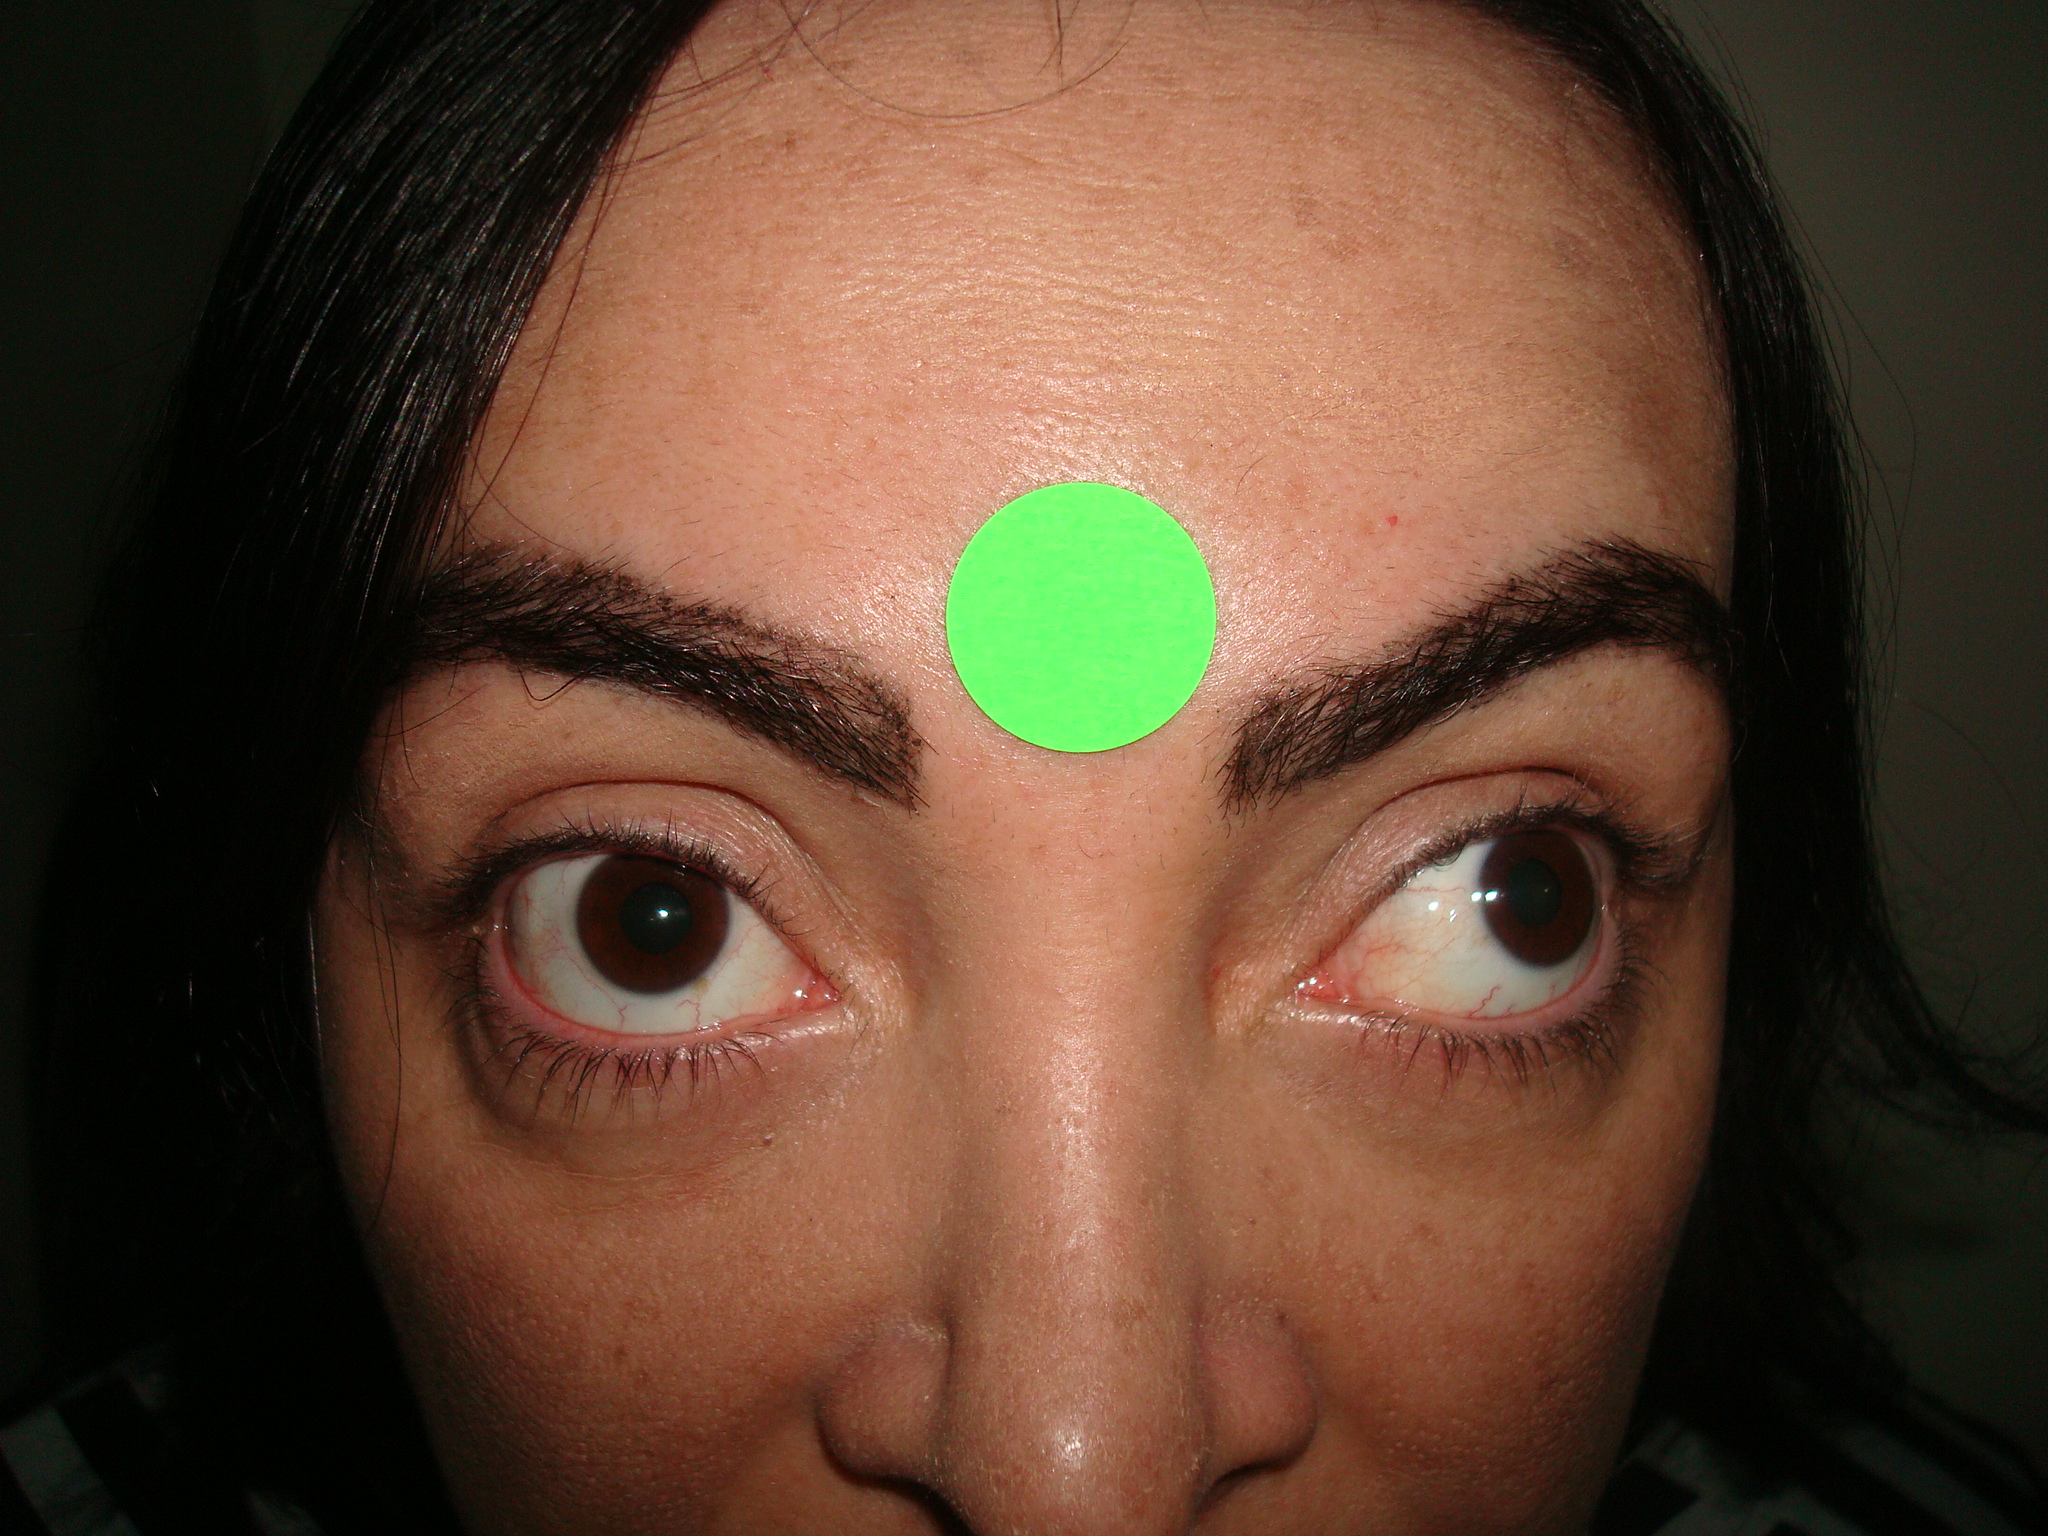flash: (655, 904, 674, 921), (1484, 887, 1500, 905)
limbo: (574, 845, 729, 994), (1479, 829, 1592, 960)
